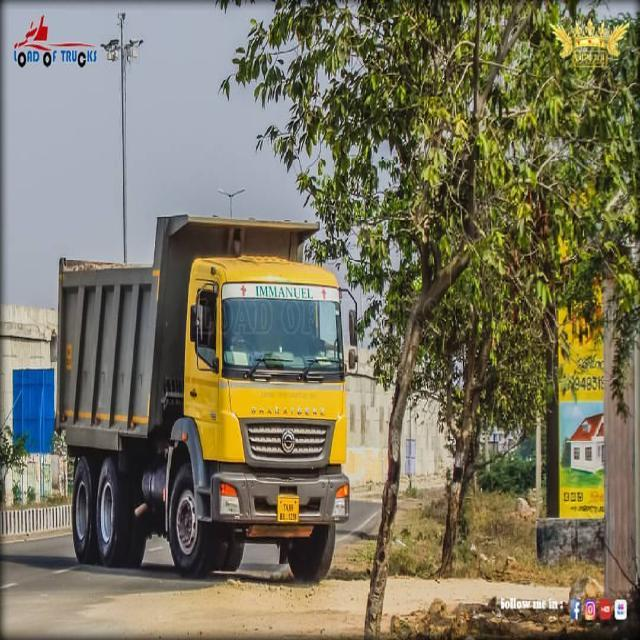Truck: (54, 210, 361, 586)
